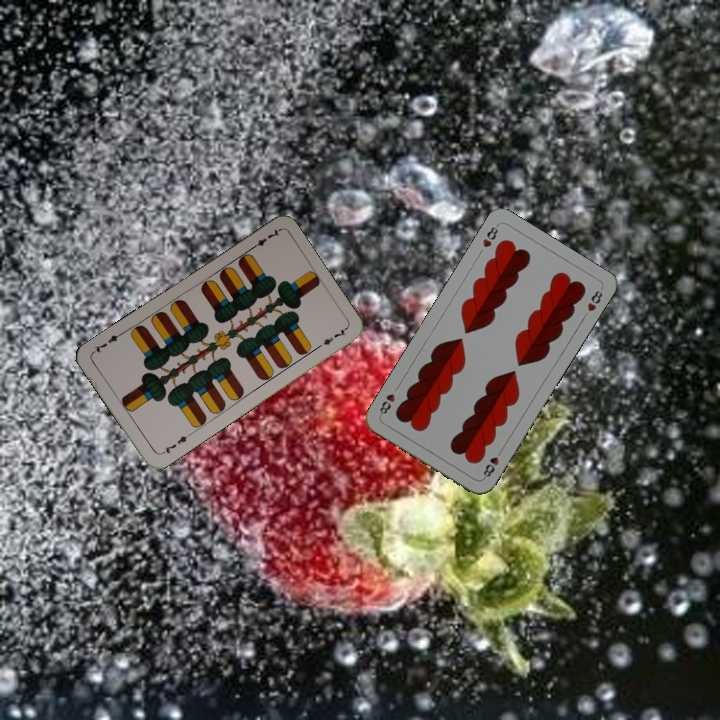E7: (156, 430, 193, 458), (246, 225, 282, 253)
H8: (479, 445, 505, 481), (478, 221, 501, 250)
